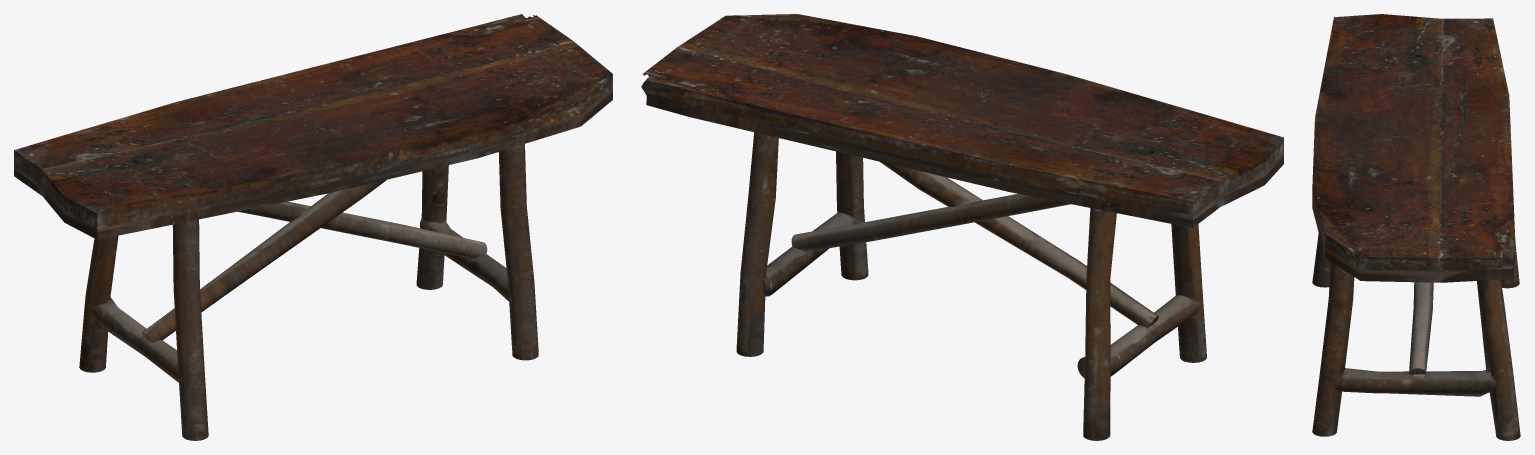
The model's file is OU_AR_Wooden_Chair_02_D.fbx.
3 renders of one model, left to right at view 1: azimuth 30°, elevation 25°; view 2: azimuth 150°, elevation 25°; view 3: azimuth 270°, elevation 25°, orthographic. The views are drawn at different scales.
Parts seen in each view (by area): view 1: OU_AR_Wooden_Chair_02_D; view 2: OU_AR_Wooden_Chair_02_D; view 3: OU_AR_Wooden_Chair_02_D.
Boxes of the visible parts, x1,y1,x2,y2 form: OU_AR_Wooden_Chair_02_D: (14,14,612,440); OU_AR_Wooden_Chair_02_D: (641,14,1283,440); OU_AR_Wooden_Chair_02_D: (1312,14,1520,440).
Size of the model in its own units: 194 by 83.45 by 69.71.
1 material, 1 textured.
